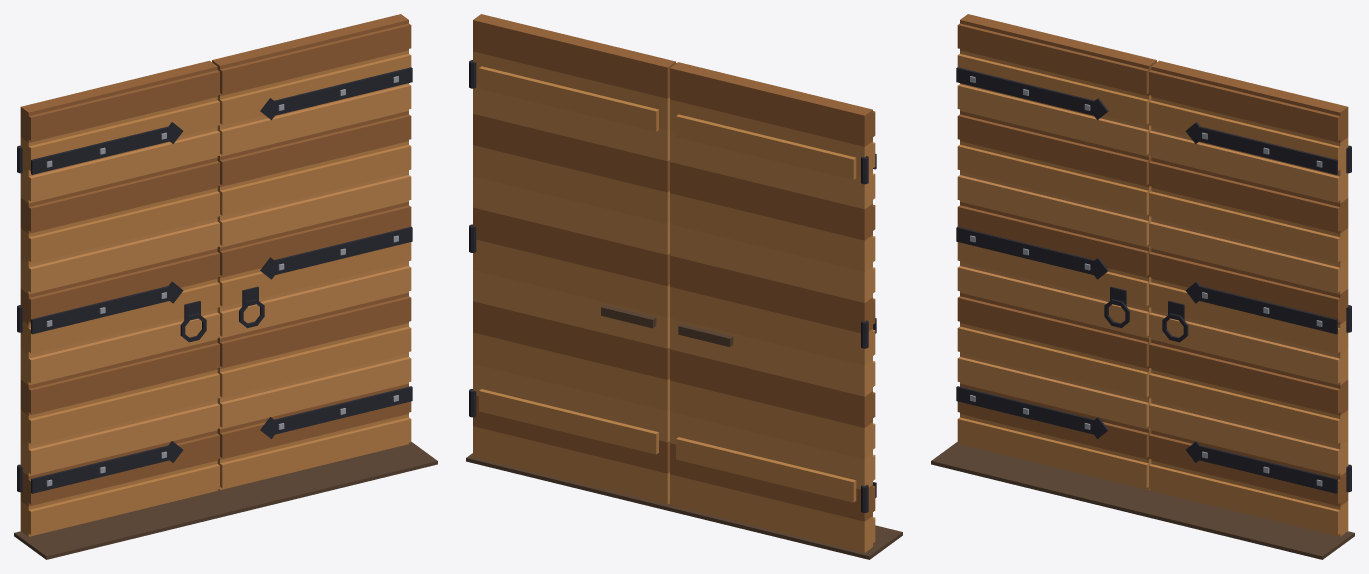
File: CatCafe_Door_LogCabin_Front.glb
3 views of the same model, side by side, from view 1: azimuth 30°, elevation 25°; view 2: azimuth 150°, elevation 25°; view 3: azimuth 330°, elevation 25° (orthographic). The views are drawn at different scales.
Visible parts, largest first — view 1: CatCafe_Door_LogCabin_Front_LeafR, CatCafe_Door_LogCabin_Front_LeafL, CatCafe_Door_LogCabin_Front; view 2: CatCafe_Door_LogCabin_Front_LeafR, CatCafe_Door_LogCabin_Front_LeafL, CatCafe_Door_LogCabin_Front; view 3: CatCafe_Door_LogCabin_Front_LeafL, CatCafe_Door_LogCabin_Front_LeafR, CatCafe_Door_LogCabin_Front.
Part boxes in pixels (x1,y1,x2,y2): CatCafe_Door_LogCabin_Front_LeafR: (17, 60, 219, 536); CatCafe_Door_LogCabin_Front_LeafL: (212, 14, 412, 489); CatCafe_Door_LogCabin_Front: (14, 442, 437, 559); CatCafe_Door_LogCabin_Front_LeafR: (670, 62, 876, 552); CatCafe_Door_LogCabin_Front_LeafL: (469, 14, 676, 504); CatCafe_Door_LogCabin_Front: (466, 453, 902, 559); CatCafe_Door_LogCabin_Front_LeafL: (1149, 60, 1351, 536); CatCafe_Door_LogCabin_Front_LeafR: (956, 14, 1156, 489); CatCafe_Door_LogCabin_Front: (931, 442, 1354, 559).
Size of the model in its own units: 7 by 7.33 by 1.07.
Materials: 1 (1 with a texture image).
